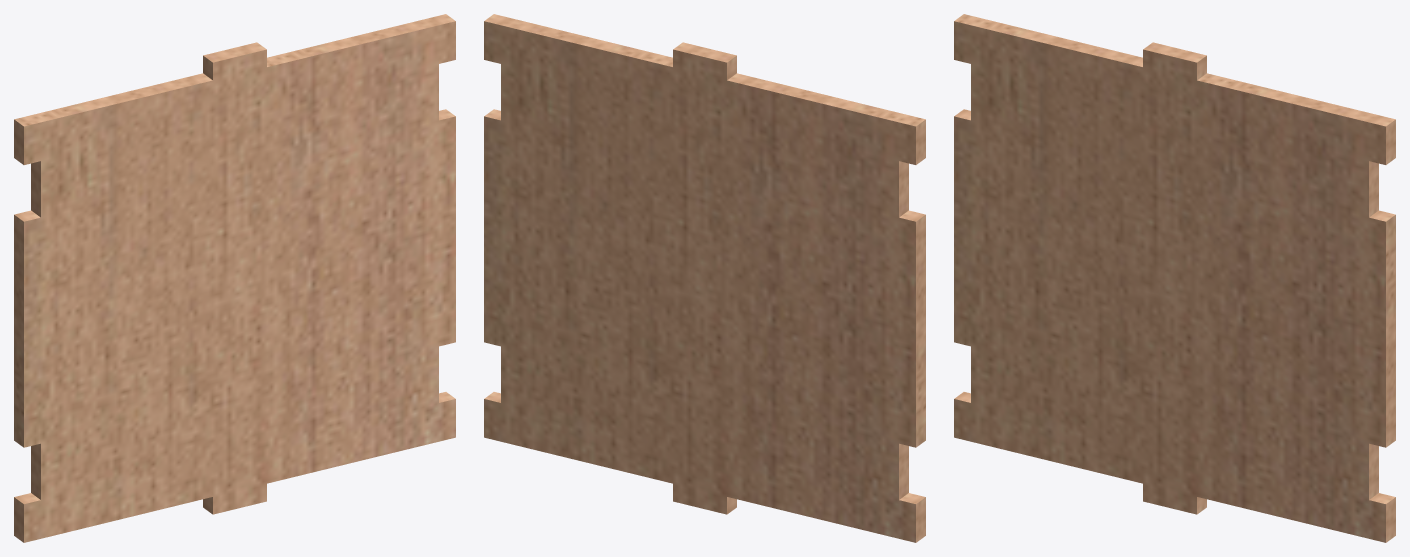
Rendered from Rigth Panel.obj.
3 views of the same model, side by side, from view 1: azimuth 30°, elevation 25°; view 2: azimuth 150°, elevation 25°; view 3: azimuth 330°, elevation 25° (orthographic).
Visible parts, largest first — view 1: Solid1; view 2: Solid1; view 3: Solid1.
Boxes of the visible parts, x1,y1,x2,y2 form: Solid1: (14,14,455,542); Solid1: (484,14,925,542); Solid1: (954,14,1395,542).
Size of the model in its own units: 102 by 102 by 4.
1 material, 1 textured.
